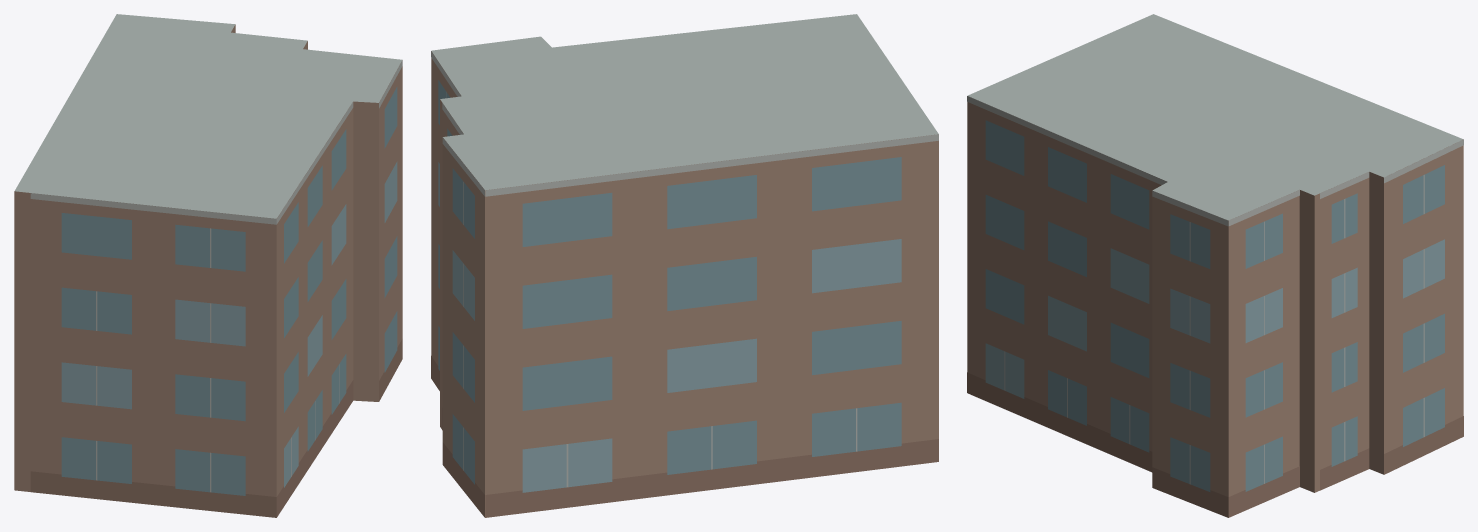
File: survey-upis-32773195.glb
3 renders of one model, left to right at view 1: azimuth 30°, elevation 25°; view 2: azimuth 150°, elevation 25°; view 3: azimuth 270°, elevation 25°, orthographic. The views are drawn at different scales.
Parts seen in each view (by area): view 1: survey-upis-32773195.tmp; view 2: survey-upis-32773195.tmp; view 3: survey-upis-32773195.tmp.
Part boxes in pixels (x1=…): survey-upis-32773195.tmp: x1=14, y1=14, x2=402, y2=517; survey-upis-32773195.tmp: x1=431, y1=14, x2=938, y2=517; survey-upis-32773195.tmp: x1=967, y1=14, x2=1463, y2=517.
Bounding box in the file's own units: 18.19 × 12.2 × 18.47.
